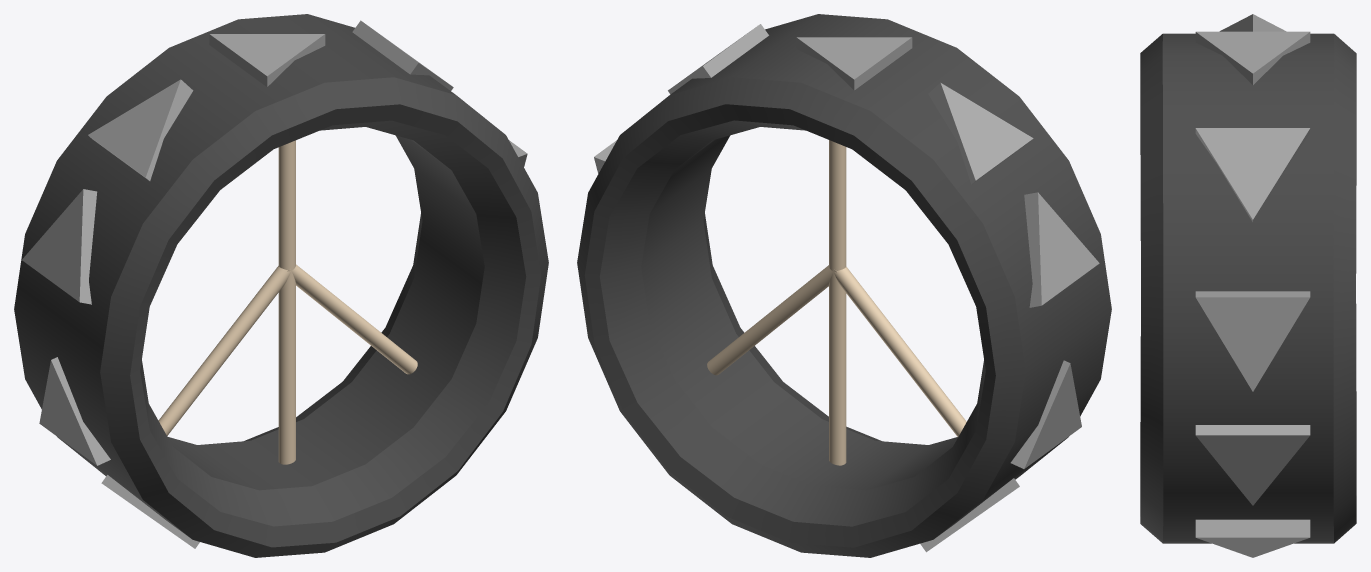
Rendered from rueda_falsa.fbx.
3 renders of one model, left to right at view 1: azimuth 30°, elevation 25°; view 2: azimuth 150°, elevation 25°; view 3: azimuth 270°, elevation 25°, orthographic.
Visible parts, largest first — view 1: neumatico, polySurface225, pPrism9, pPrism10, pPrism1, pasted__polySurface458, pPrism8, polySurface458, pPrism2, pPrism7; view 2: neumatico, polySurface225, pPrism9, pPrism10, pPrism1, pasted__polySurface458, pPrism8, polySurface458, pPrism2, pPrism7; view 3: neumatico, pPrism3, pPrism2, pPrism4, pPrism1, pPrism5, pPrism10.
Part boxes in pixels (bbox=[...]): neumatico: bbox=[14, 14, 548, 557]; polySurface225: bbox=[278, 140, 295, 464]; pPrism9: bbox=[22, 189, 97, 304]; pPrism10: bbox=[88, 79, 193, 180]; pPrism1: bbox=[209, 34, 325, 86]; pasted__polySurface458: bbox=[158, 266, 291, 435]; pPrism8: bbox=[39, 357, 110, 465]; polySurface458: bbox=[287, 264, 417, 374]; pPrism2: bbox=[352, 20, 453, 90]; pPrism7: bbox=[101, 475, 199, 548]; neumatico: bbox=[577, 14, 1111, 557]; polySurface225: bbox=[829, 140, 846, 465]; pPrism9: bbox=[1024, 192, 1099, 307]; pPrism10: bbox=[928, 82, 1033, 184]; pPrism1: bbox=[796, 37, 912, 90]; pasted__polySurface458: bbox=[833, 267, 966, 436]; pPrism8: bbox=[1010, 360, 1081, 468]; polySurface458: bbox=[707, 265, 837, 375]; pPrism2: bbox=[668, 24, 768, 94]; pPrism7: bbox=[920, 478, 1019, 552]; neumatico: bbox=[1140, 33, 1356, 543]; pPrism3: bbox=[1195, 291, 1310, 391]; pPrism2: bbox=[1195, 128, 1310, 221]; pPrism4: bbox=[1195, 425, 1310, 505]; pPrism1: bbox=[1195, 31, 1310, 84]; pPrism5: bbox=[1195, 519, 1310, 557]; pPrism10: bbox=[1219, 14, 1286, 31].
Size of the model in its own units: 1.78 by 1.77 by 0.7316.
